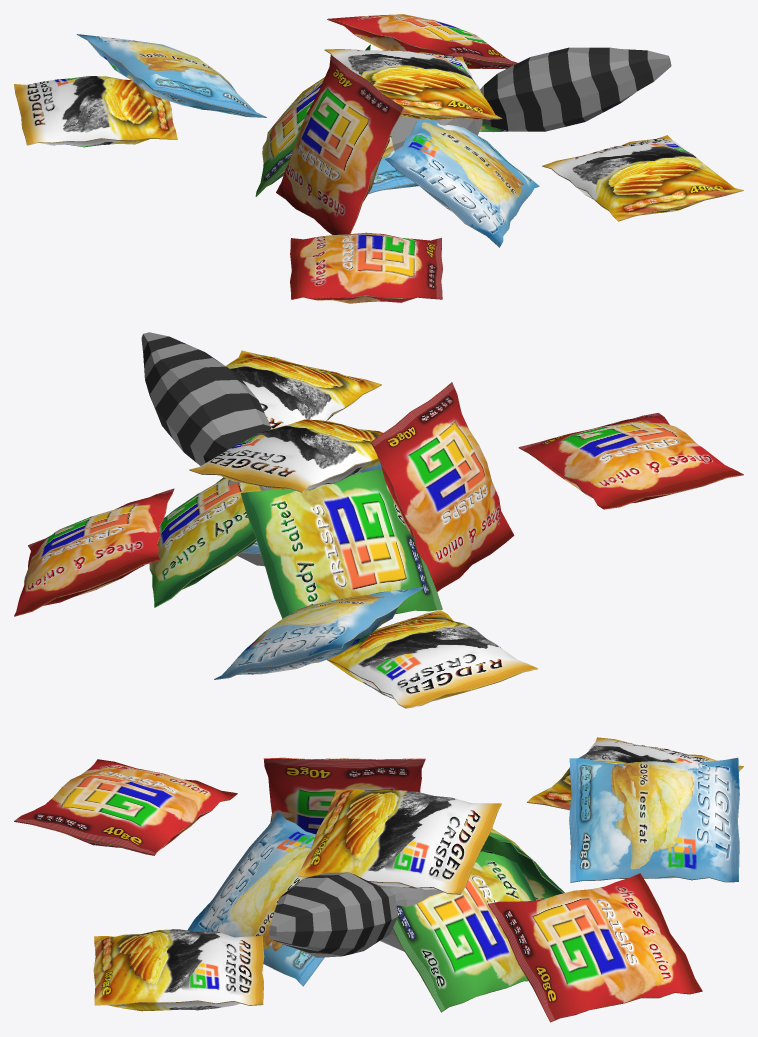
The model's file is CrispGoal.fbx.
The picture shows the model from 3 angles, top to bottom: view 1: azimuth 30°, elevation 25°; view 2: azimuth 150°, elevation 25°; view 3: azimuth 270°, elevation 25°; orthographic projection. The views are drawn at different scales.
Visible parts, largest first — view 1: Crisps.004, Body, Crisps.006, Crisps.007, Crisps.010, Crisps.005, Crisps.002, Crisps.009, Crisps.008, Crisps.001, Crisps; view 2: Crisps.001, Crisps.004, Crisps.006, Crisps.010, Body, Crisps.008, Crisps.002, Crisps.003, Crisps.009, Crisps.005; view 3: Crisps.009, Crisps.008, Crisps.002, Crisps.005, Crisps.003, Crisps.006, Body, Crisps.007, Crisps.004, Crisps.010, Crisps.001.
Boxes of the visible parts, box(x1,y1,x2,y2) form: Crisps.004: box(276, 55, 403, 234); Body: box(391, 47, 671, 151); Crisps.006: box(290, 232, 442, 303); Crisps.007: box(385, 119, 539, 247); Crisps.010: box(14, 76, 177, 147); Crisps.005: box(542, 135, 743, 221); Crisps.002: box(324, 49, 502, 120); Crisps.009: box(76, 34, 266, 117); Crisps.008: box(327, 14, 517, 68); Crisps.001: box(255, 44, 370, 196); Crisps: box(368, 134, 418, 193); Crisps.001: box(241, 469, 442, 618); Crisps.004: box(370, 382, 514, 591); Crisps.006: box(518, 413, 743, 509); Crisps.010: box(327, 610, 538, 708); Body: box(141, 332, 361, 566); Crisps.008: box(14, 488, 174, 616); Crisps.002: box(189, 419, 383, 492); Crisps.003: box(149, 477, 261, 607); Crisps.009: box(214, 586, 424, 679); Crisps.005: box(226, 350, 381, 429); Crisps.009: box(569, 757, 739, 882); Crisps.008: box(488, 873, 702, 1022); Crisps.002: box(298, 788, 501, 894); Crisps.005: box(93, 929, 264, 1011); Crisps.003: box(392, 851, 535, 1012); Crisps.006: box(14, 759, 237, 855); Body: box(269, 872, 443, 957); Crisps.007: box(187, 811, 324, 986); Crisps.004: box(263, 757, 425, 834); Crisps.010: box(527, 737, 743, 810); Crisps.001: box(480, 828, 564, 899).
Bounding box in the file's own units: 177 × 47 × 201.
6 materials, 4 textured.
